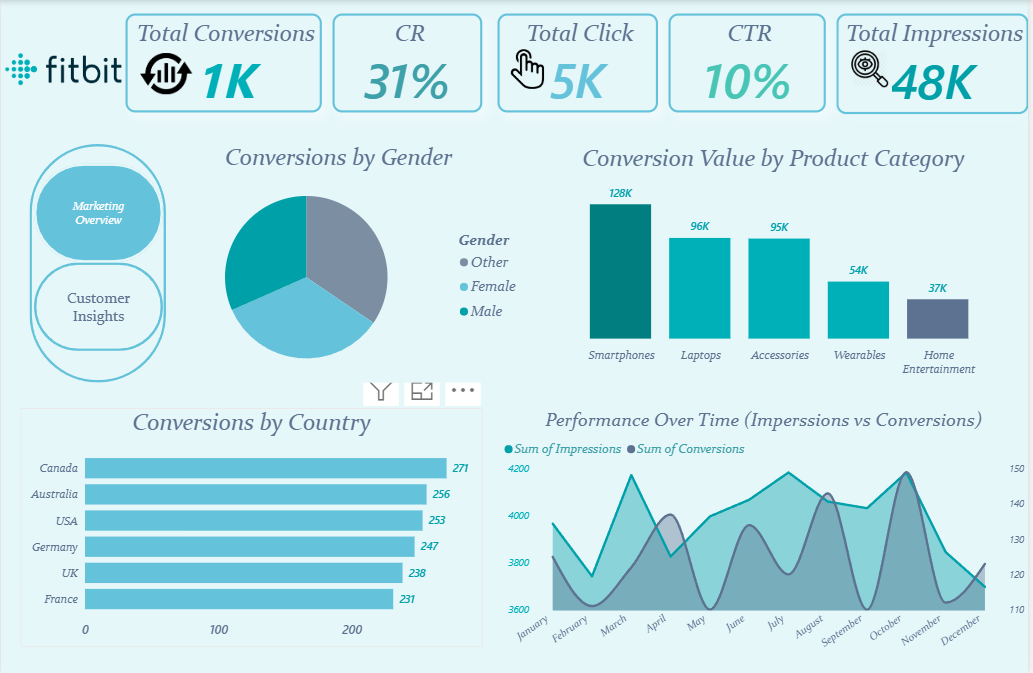

What the dashboard file says about the page in this screenshot:
{"tool":"powerbi","page":{"name":"Marketing Overview","canvas":[1280,846],"ordinal":0},"visuals":[{"type":"card","title":"Total Impressions","fields":{"Values":["Sum(FitBit.Impressions)"]},"box":[1041,16.8,239.2,125.2],"z":0},{"type":"card","title":"Total Click","fields":{"Values":["Sum(FitBit.Clicks)"]},"box":[618.6,16.8,200,123.4],"z":1000},{"type":"card","title":"CTR","fields":{"Values":["FitBit.CTR"]},"box":[831.7,16.8,196.2,123.4],"z":2000},{"type":"card","title":"Total Conversions","fields":{"Values":["Sum(FitBit.Conversions)"]},"box":[155.1,16.8,244.8,123.4],"z":3000},{"type":"card","title":"CR","fields":{"Values":["FitBit.CR"]},"box":[413,16.8,186.9,123.4],"z":4000},{"type":"image","box":[0,16.8,155.1,138.3],"z":5000},{"type":"image","box":[1054.1,56.1,56.1,59.8],"z":6000},{"type":"image","box":[168.2,56.1,74.8,71],"z":7000},{"type":"lineChart","title":"Performance Over Time (Imperssions vs Conversions)","fields":{"Y":["Sum(FitBit.Impressions)"],"Y2":["Sum(FitBit.Conversions)"],"Category":["FitBit.DateTime.Variation.Date Hierarchy.Month"]},"box":[620.5,508.4,659.7,338.3],"z":8000},{"type":"image","box":[618.6,56.1,74.8,59.8],"z":9000},{"type":"clusteredBarChart","title":"Conversions by Country","fields":{"Category":["FitBit.Country"],"Y":["Sum(FitBit.Conversions)"]},"box":[24.3,508.4,575.6,297.2],"z":10000},{"type":"columnChart","title":" Conversion Value by Product Category","fields":{"Category":["FitBit.ProductCategory"],"Y":["Sum(FitBit.ConversionValue)"]},"box":[672.8,179.4,579.4,297.2],"z":11000},{"type":"pieChart","title":" Conversions by Gender","fields":{"Category":["FitBit.Gender"],"Y":["Sum(FitBit.Conversions)"]},"box":[185,177.6,471,299],"z":12000},{"type":"shape","box":[35.5,179.4,170.1,297.2],"z":13000},{"type":"shape","box":[41.1,203.7,160.7,123.4],"z":14000},{"type":"shape","box":[41.1,327.1,160.7,110.3],"z":15000}]}

Visuals, with their boxes in screenshot pixels (x1, y1, x2, y2), scaled from the page's 1280x846 canvas onto the 1033x673 screenshot:
"Total Impressions" card: {"left": 840, "top": 13, "right": 1032, "bottom": 113}
"Total Click" card: {"left": 499, "top": 13, "right": 661, "bottom": 112}
"CTR" card: {"left": 671, "top": 13, "right": 830, "bottom": 112}
"Total Conversions" card: {"left": 125, "top": 13, "right": 323, "bottom": 112}
"CR" card: {"left": 333, "top": 13, "right": 484, "bottom": 112}
image: {"left": 0, "top": 13, "right": 125, "bottom": 123}
image: {"left": 851, "top": 45, "right": 896, "bottom": 92}
image: {"left": 136, "top": 45, "right": 196, "bottom": 101}
"Performance Over Time (Imperssions vs Conversions)" lineChart: {"left": 501, "top": 404, "right": 1032, "bottom": 672}
image: {"left": 499, "top": 45, "right": 560, "bottom": 92}
"Conversions by Country" clusteredBarChart: {"left": 20, "top": 404, "right": 484, "bottom": 641}
" Conversion Value by Product Category" columnChart: {"left": 543, "top": 143, "right": 1011, "bottom": 379}
" Conversions by Gender" pieChart: {"left": 149, "top": 141, "right": 529, "bottom": 379}
shape: {"left": 29, "top": 143, "right": 166, "bottom": 379}
shape: {"left": 33, "top": 162, "right": 163, "bottom": 260}
shape: {"left": 33, "top": 260, "right": 163, "bottom": 348}
